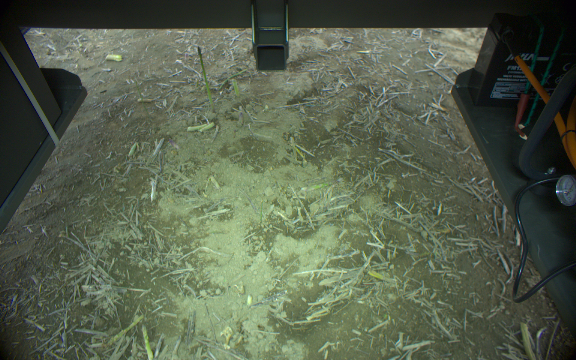aspa: (195, 43, 216, 113), (107, 315, 145, 343), (141, 324, 154, 360), (230, 79, 240, 96)
